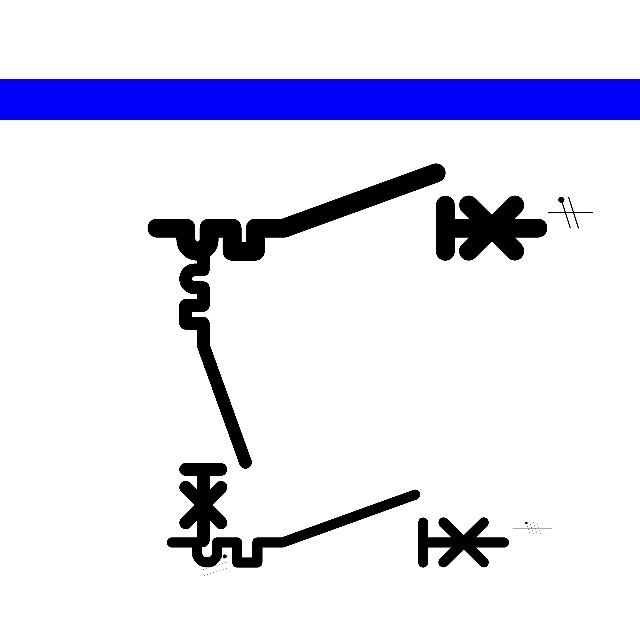interruptor_termomagnetico: (147, 163, 548, 261), (163, 486, 513, 571), (178, 240, 253, 548)
